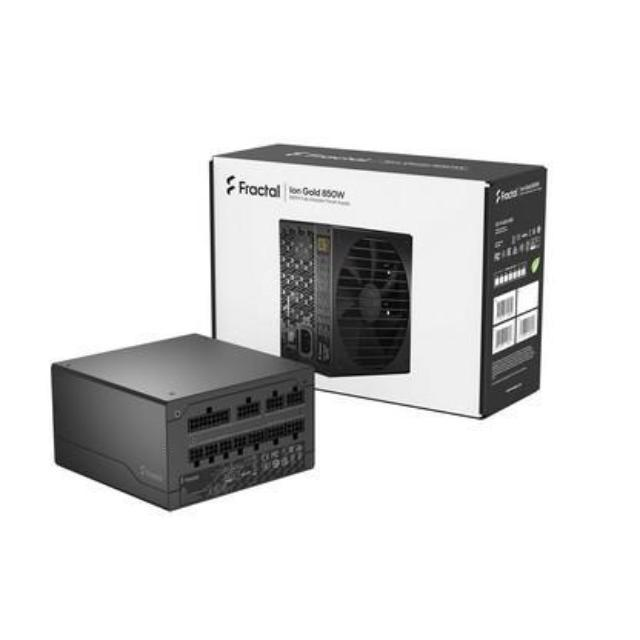PSU: (46, 328, 334, 524)
